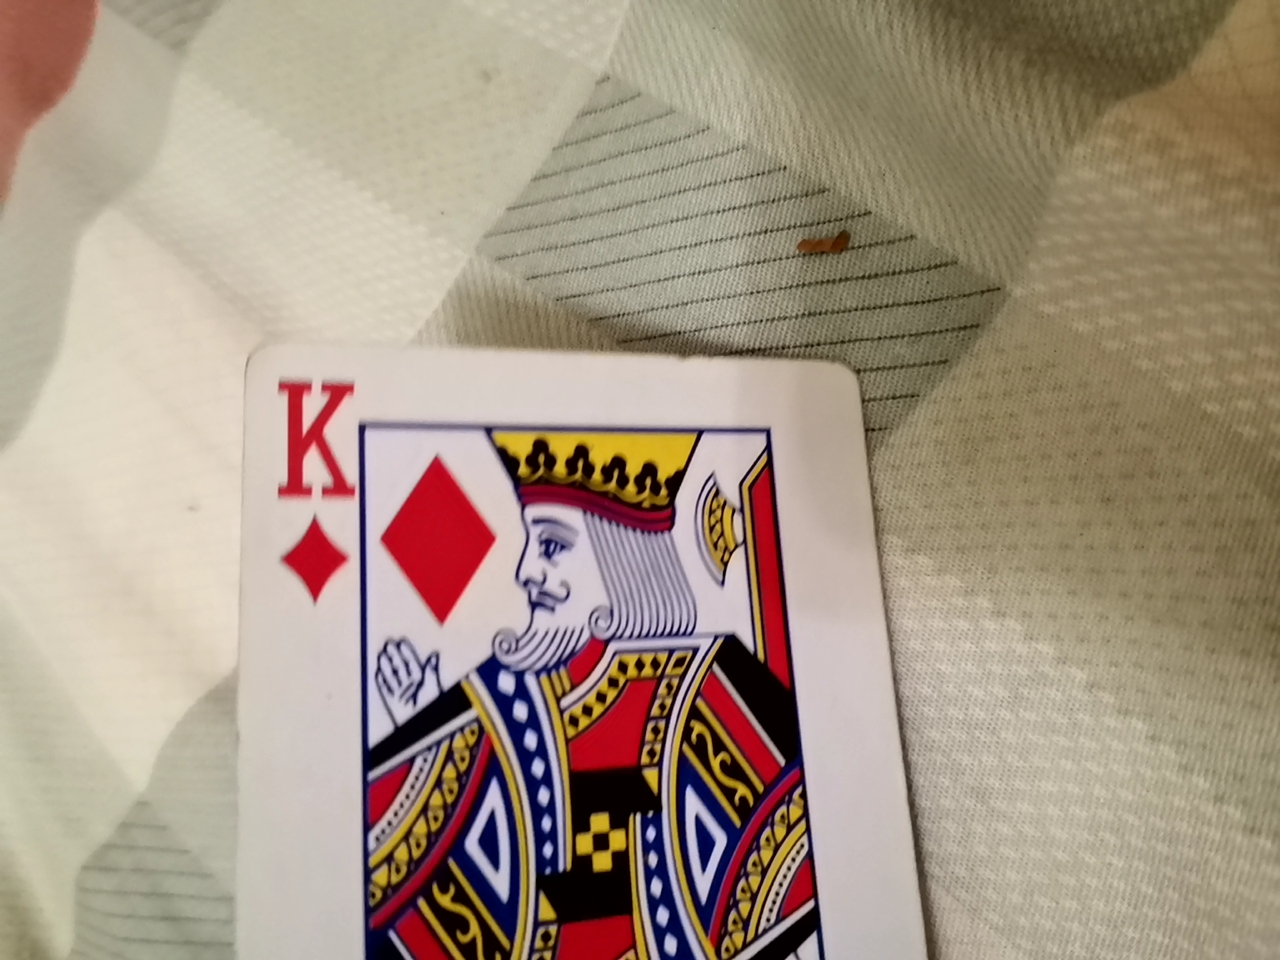fk k: (200, 348, 930, 960)
